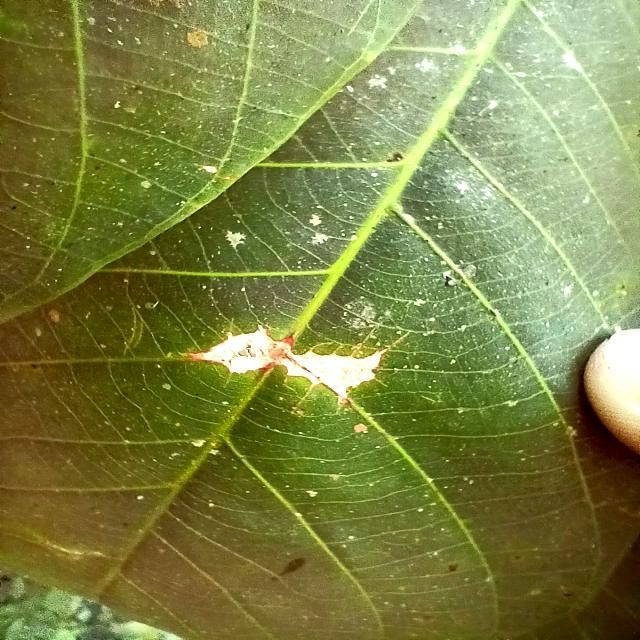Leaf-Blight: (188, 328, 380, 400)
